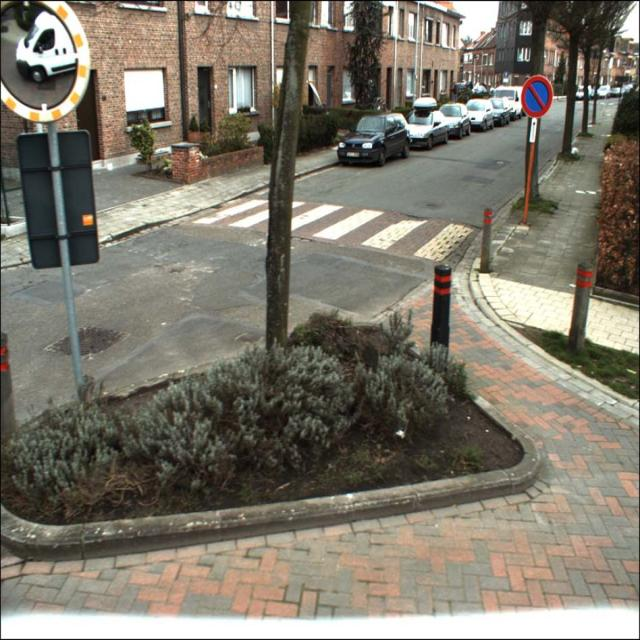parkyasak: (521, 75, 553, 116)
